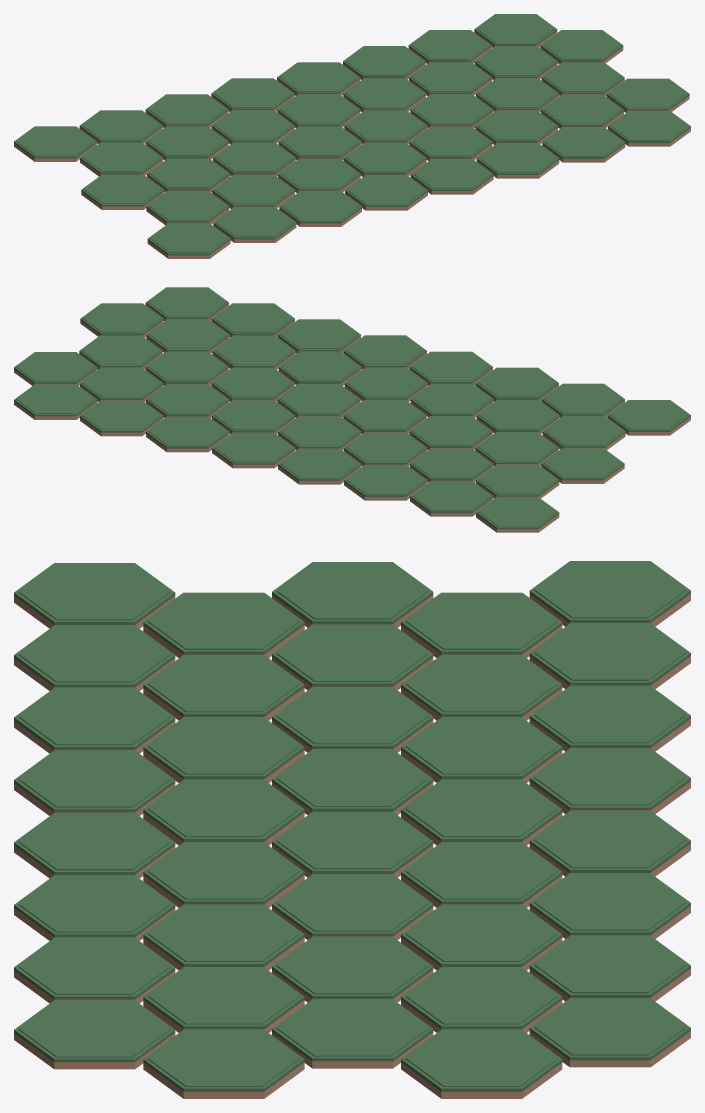
File: gamejam_test.gltf
3 renders of one model, top to bottom at view 1: azimuth 30°, elevation 25°; view 2: azimuth 150°, elevation 25°; view 3: azimuth 270°, elevation 25°, orthographic. The views are drawn at different scales.
Parts seen in each view (by area): view 1: row_1, row_2, row_5, row_4, row_3; view 2: row_5, row_3, row_1, row_2, row_4; view 3: row_2, row_5, row_1, row_4, row_3.
Part boxes in pixels (x1,y1,x2,y2): row_1: (147, 111, 690, 258); row_2: (146, 78, 689, 225); row_5: (14, 14, 557, 161); row_4: (80, 30, 623, 176); row_3: (81, 62, 624, 209); row_5: (14, 384, 559, 532); row_3: (79, 335, 624, 483); row_1: (145, 287, 690, 435); row_2: (80, 303, 625, 450); row_4: (14, 352, 559, 498); row_2: (143, 592, 304, 1098); row_5: (529, 561, 690, 1067); row_1: (14, 563, 175, 1069); row_4: (401, 592, 562, 1098); row_3: (272, 562, 433, 1068).
Size of the model in its own units: 15.48 by 0.1634 by 8.39.
